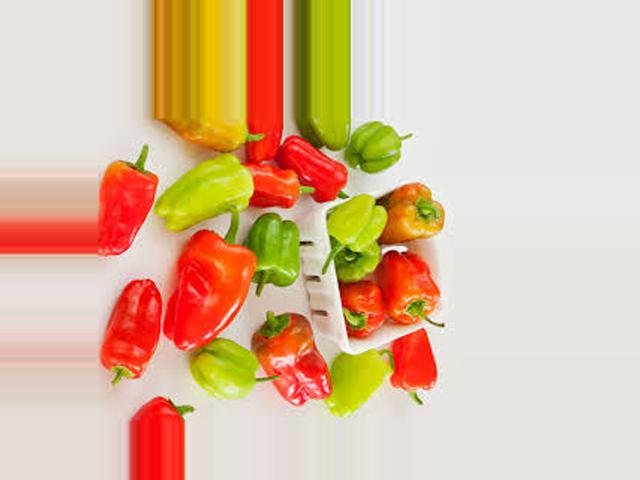bell_pepper: (95, 140, 165, 240)
